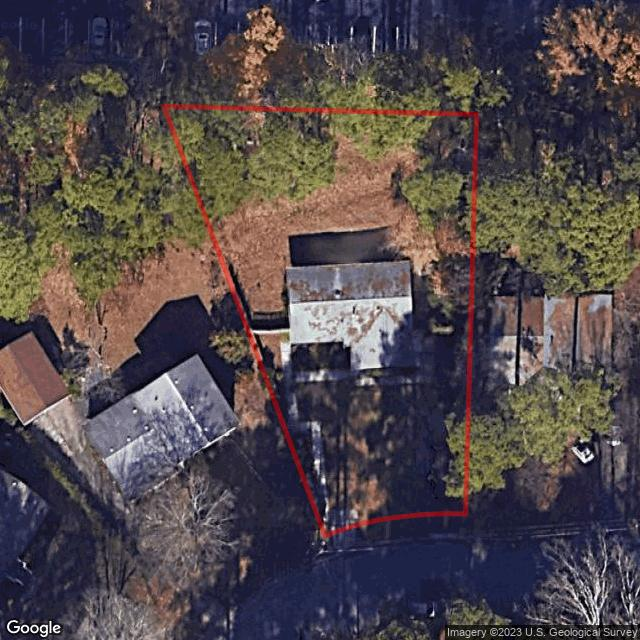Driveway: (253, 330, 434, 530)
House: (283, 260, 420, 374)
